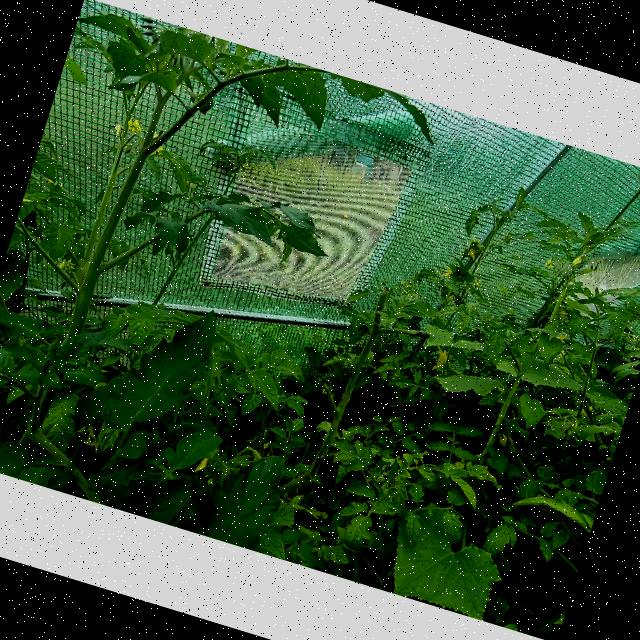Flowers: (74, 416, 110, 454), (432, 347, 454, 374), (54, 256, 78, 273), (124, 116, 144, 136), (496, 432, 514, 450), (106, 120, 125, 136), (464, 244, 479, 260), (570, 253, 584, 268), (440, 266, 453, 280), (544, 255, 556, 270), (556, 307, 570, 318), (446, 294, 456, 306), (471, 278, 482, 288), (398, 277, 406, 286), (412, 290, 420, 298)
